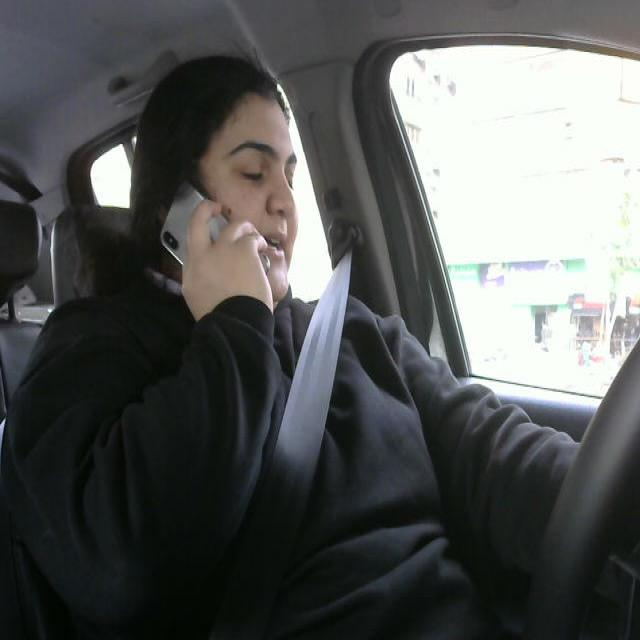mobile use: (158, 182, 273, 307)
